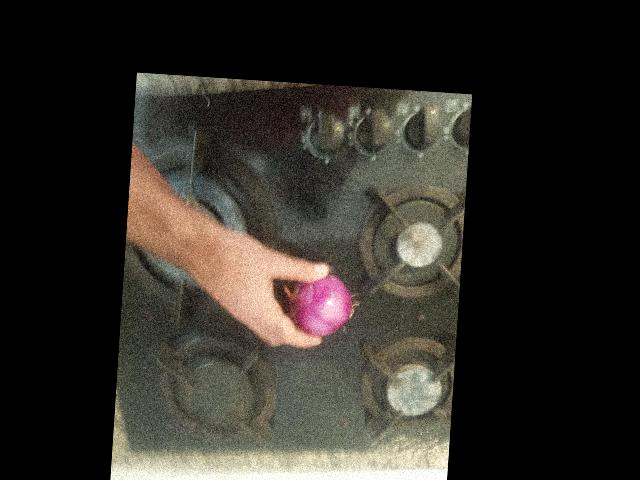onion: (308, 356, 385, 426)
